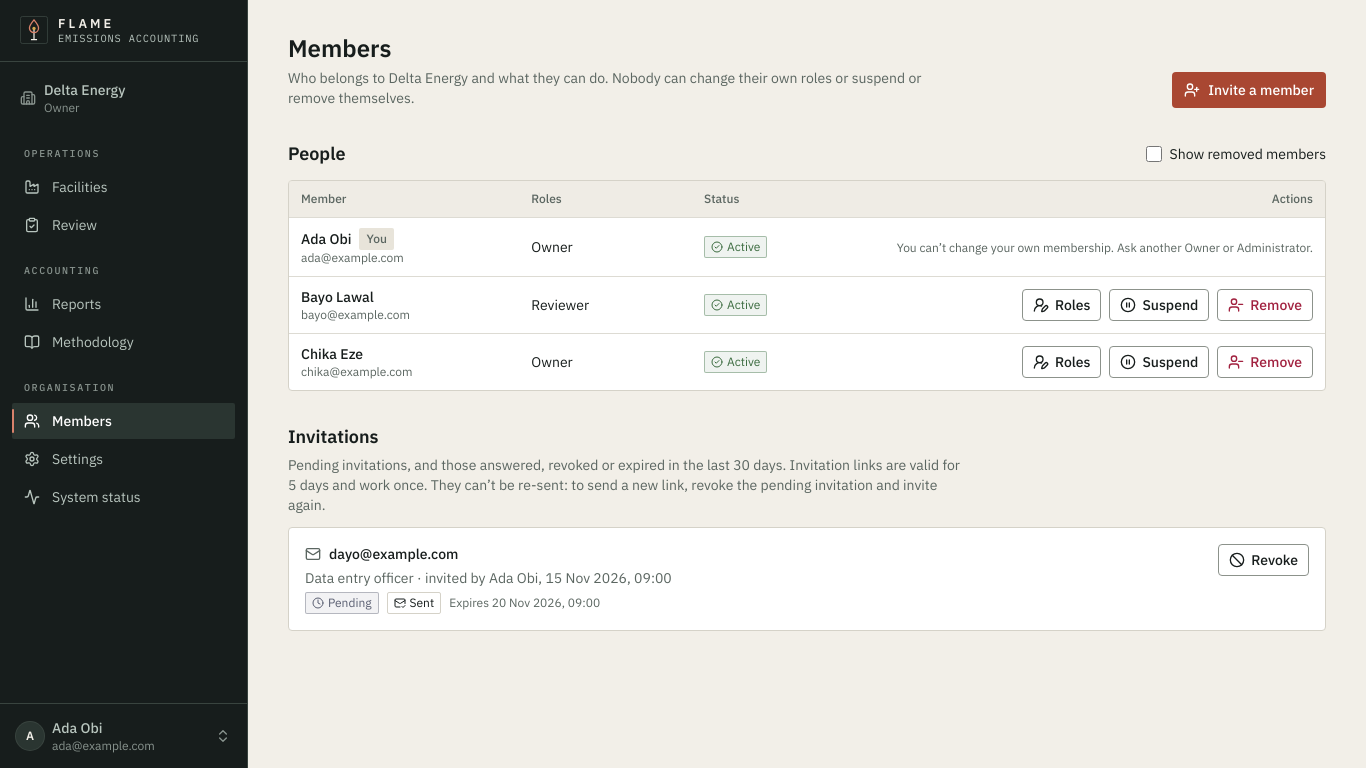
Test: the members page › lets an Owner grant the Owner role
The image size is (1366, 768).
Click the button with aria-label "Change roles for Bayo Lawal". click: point(1062, 304)
box: [1022, 288, 1101, 320]
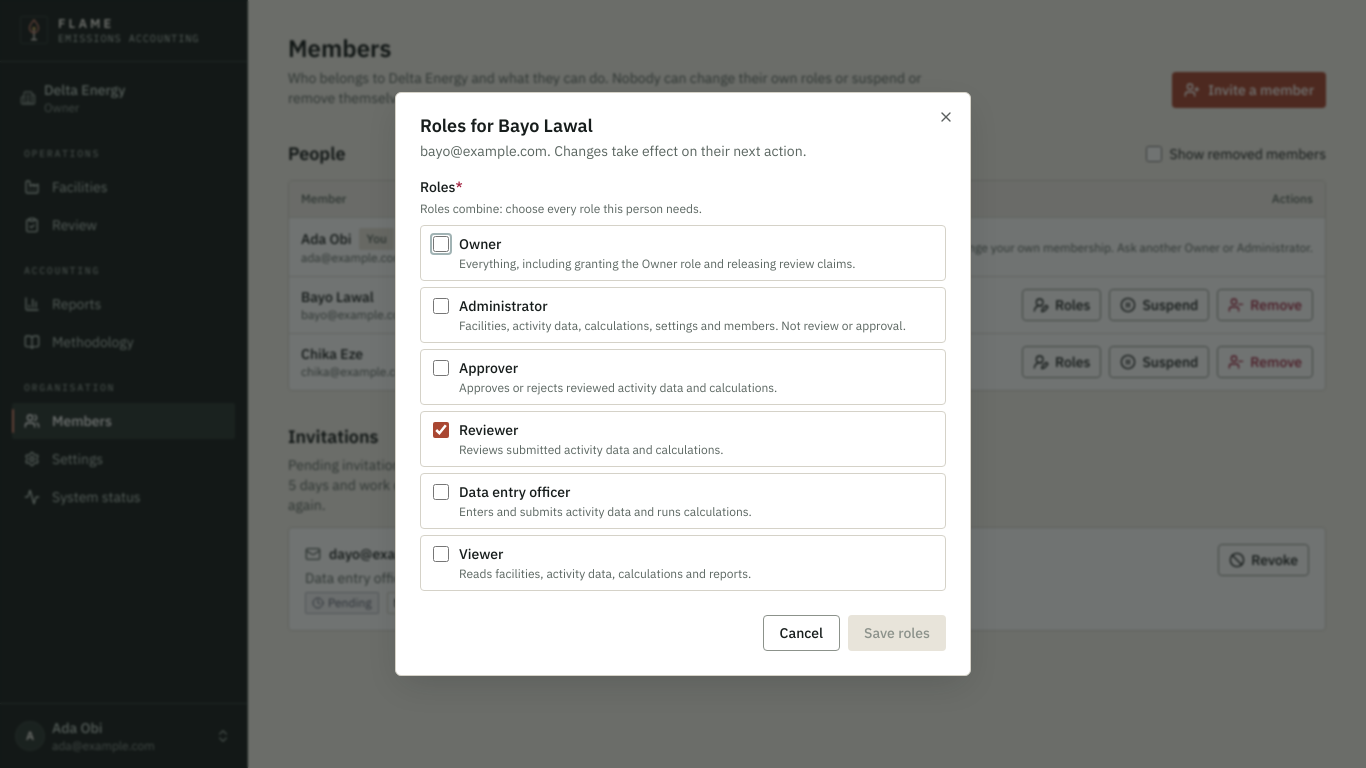
Now the checkbox labelled "Owner" is enabled, box [433, 236, 449, 252]
